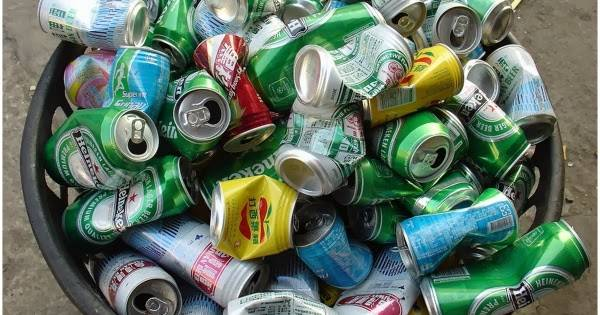metal: (402, 190, 510, 276), (196, 36, 274, 154), (296, 30, 403, 108), (49, 114, 149, 191), (280, 95, 347, 200), (208, 182, 302, 253), (110, 45, 168, 116)
